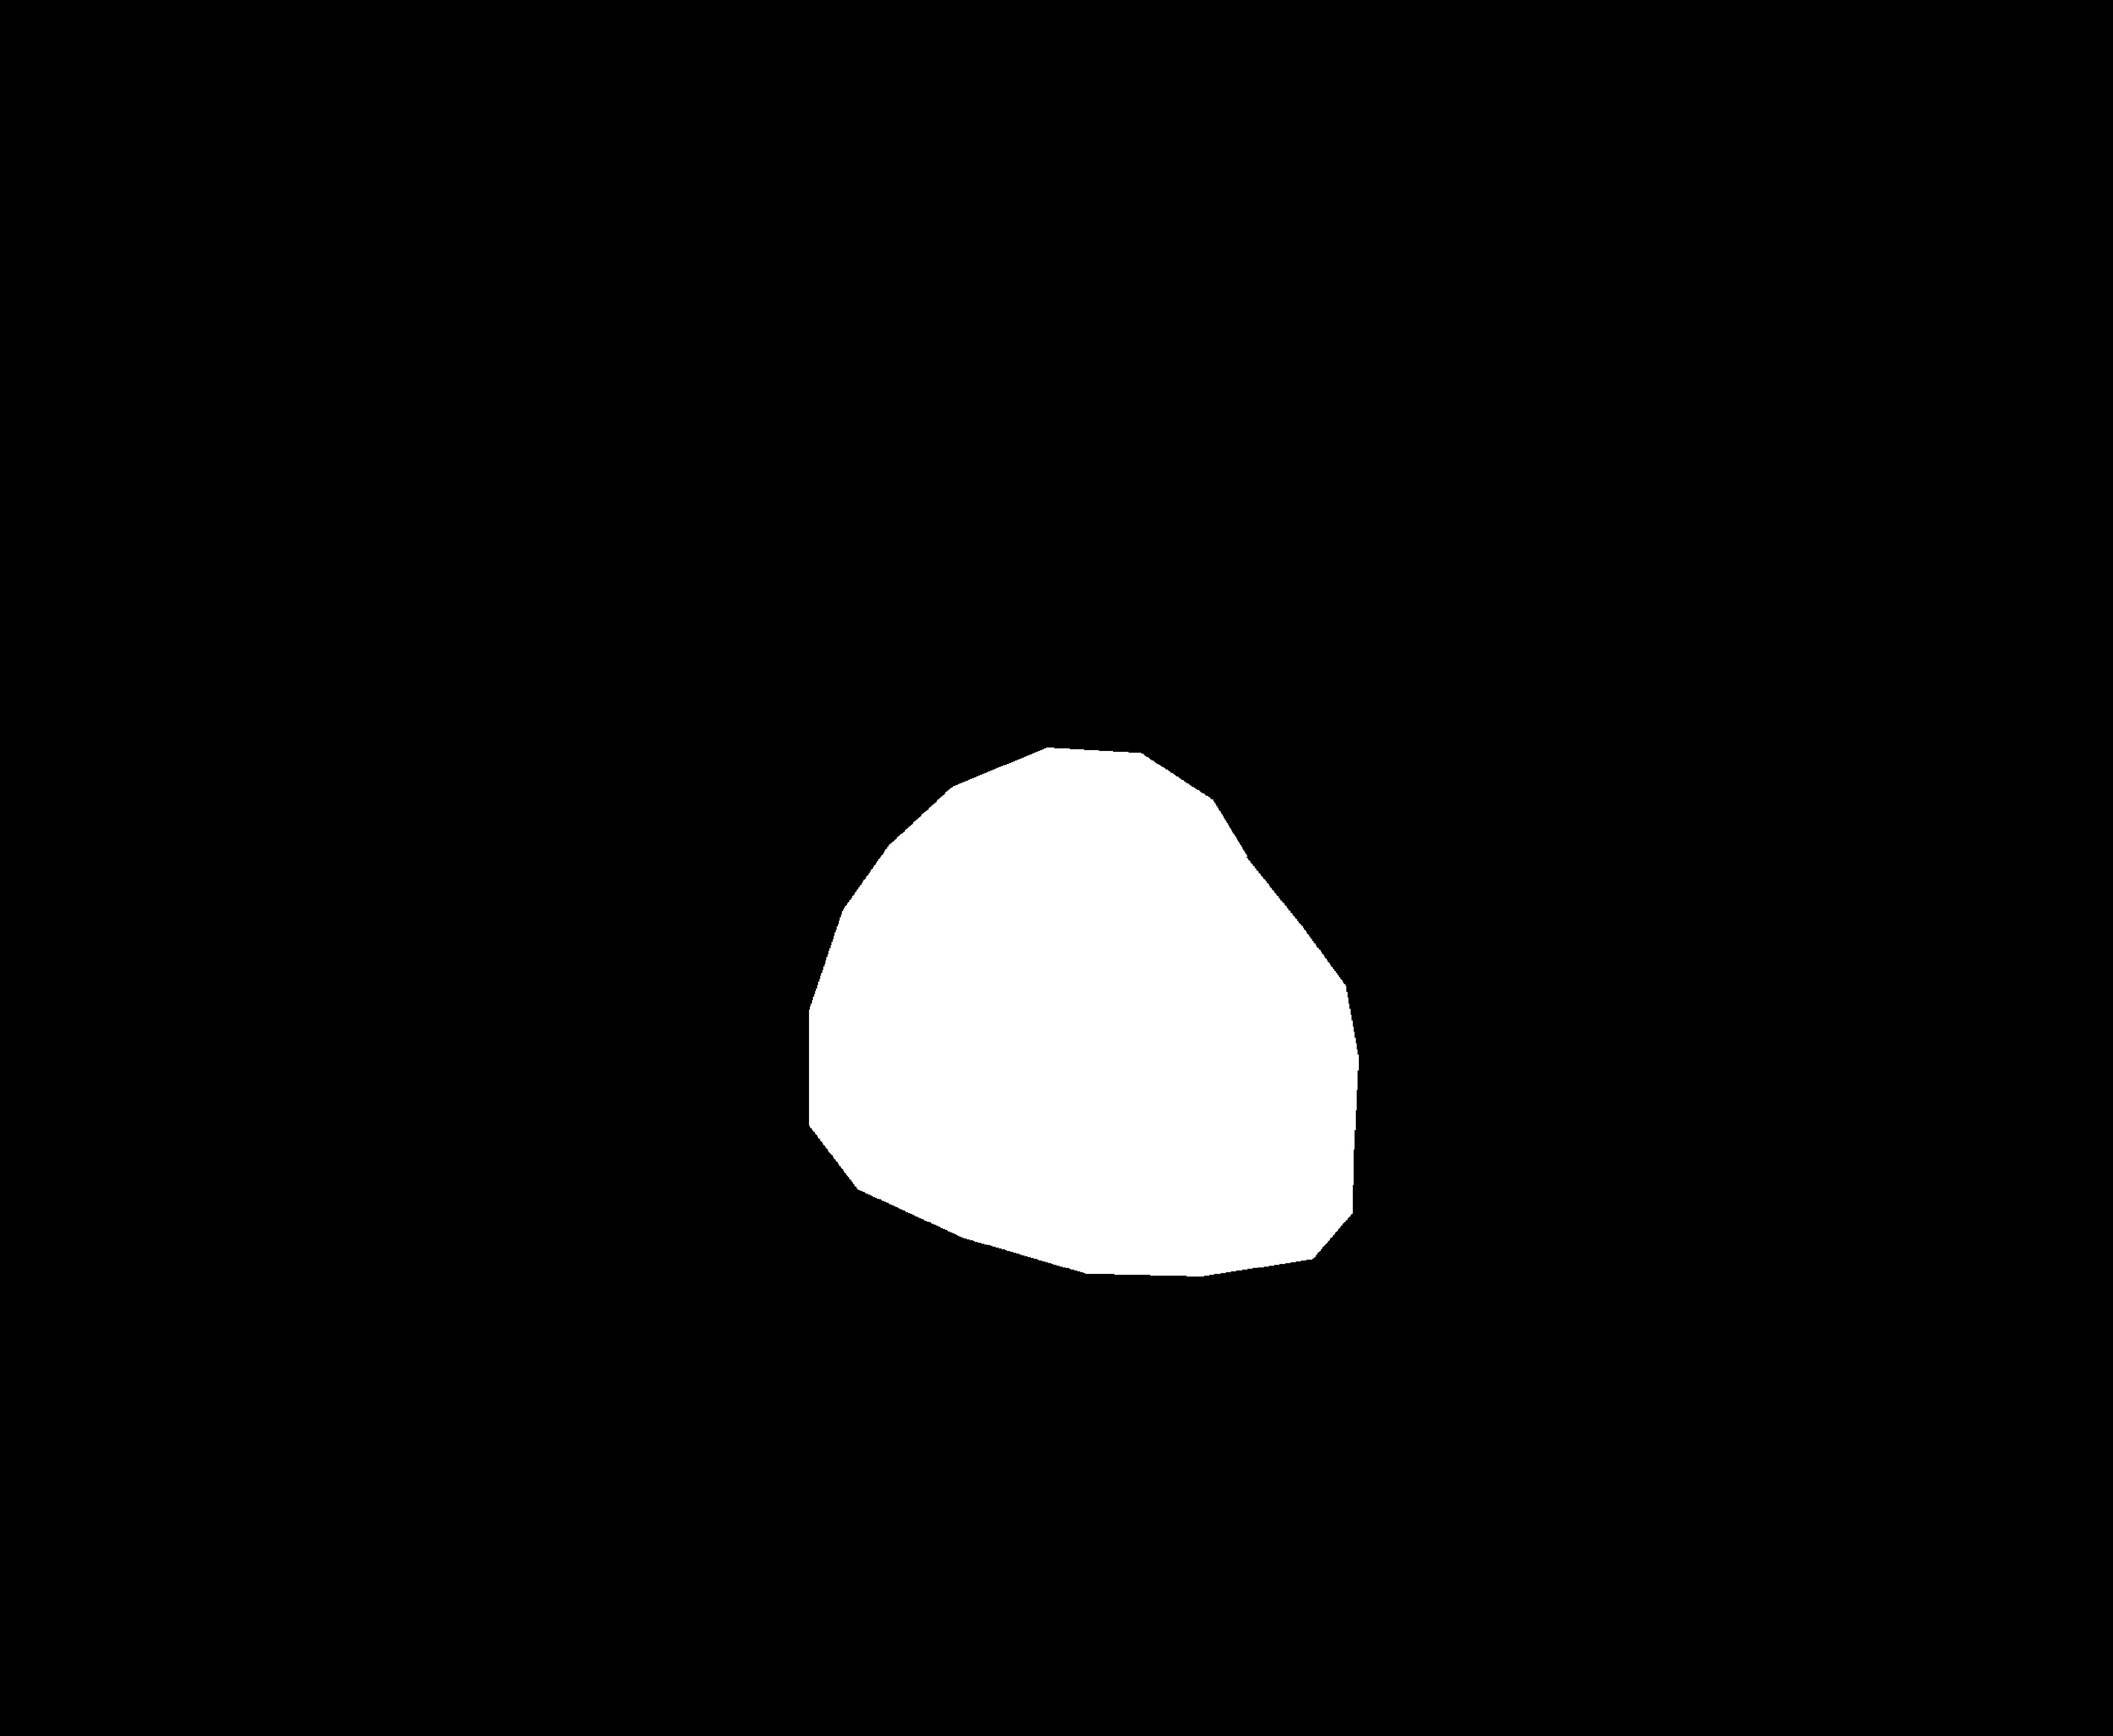heart: (804, 818, 1490, 1280)
left_lung: (142, 0, 939, 1489)
right_lung: (1065, 0, 1802, 1450)
